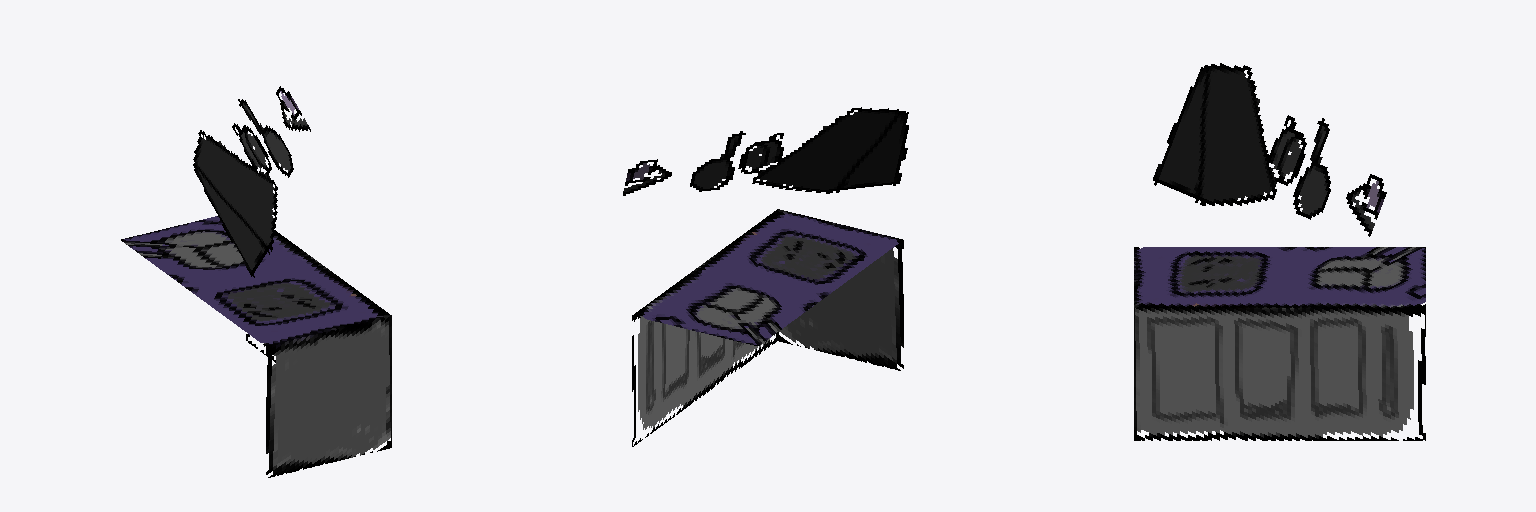
The picture shows the model from 3 angles: view 1: azimuth 30°, elevation 25°; view 2: azimuth 150°, elevation 25°; view 3: azimuth 270°, elevation 25°; orthographic projection.
Parts seen in each view (by area): view 1: Cube; view 2: Cube; view 3: Cube.
Boxes of the visible parts, x1,y1,x2,y2 form: Cube: [121, 86, 391, 477]; Cube: [623, 107, 908, 446]; Cube: [1134, 63, 1425, 440].
Bounding box in the file's own units: 1.06 × 1.4 × 1.2.
2 materials, 2 textured.